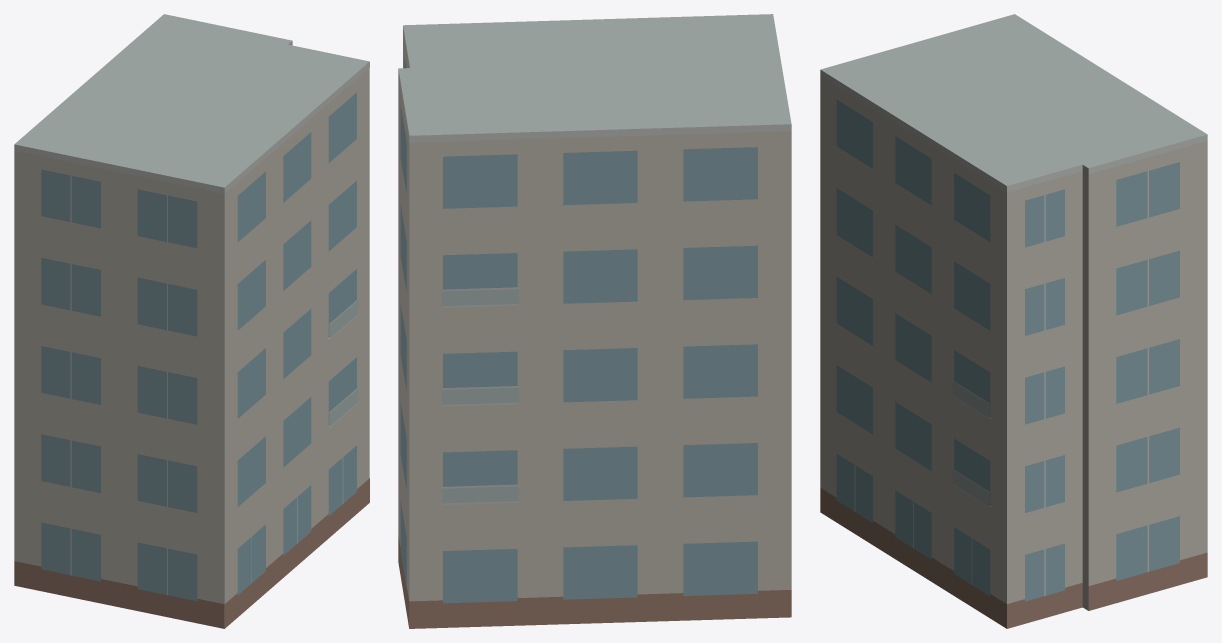
Rendered from survey-upis-32894287.glb.
The picture shows the model from 3 angles, left to right: view 1: azimuth 30°, elevation 25°; view 2: azimuth 150°, elevation 25°; view 3: azimuth 270°, elevation 25°; orthographic projection. The views are drawn at different scales.
Visible parts, largest first — view 1: survey-upis-32894287.tmp; view 2: survey-upis-32894287.tmp; view 3: survey-upis-32894287.tmp.
Boxes of the visible parts, x1=… form: survey-upis-32894287.tmp: x1=14, y1=14, x2=369, y2=628; survey-upis-32894287.tmp: x1=398, y1=14, x2=791, y2=628; survey-upis-32894287.tmp: x1=820, y1=14, x2=1207, y2=628.
Bounding box in the file's own units: 14.6 × 17.5 × 13.88.
